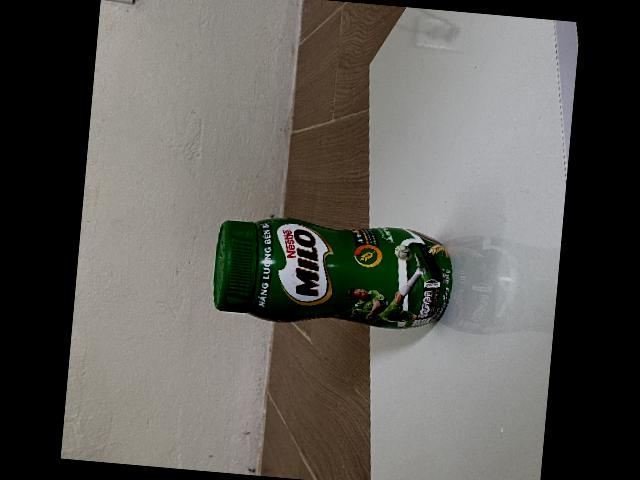milo: (213, 216, 454, 329)
